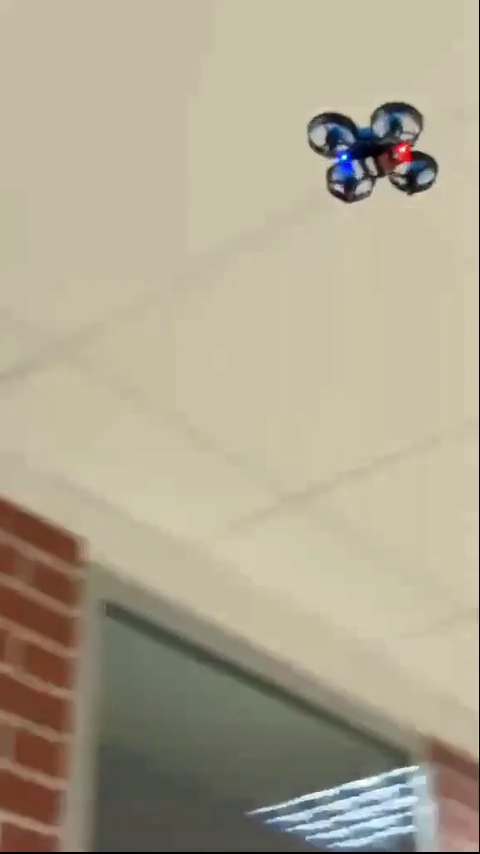drone: (307, 99, 436, 202)
